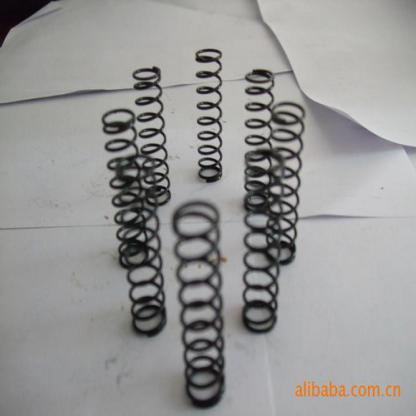FOD: (171, 196, 226, 410), (116, 150, 171, 342), (240, 140, 283, 336), (101, 105, 152, 269), (264, 97, 306, 268), (129, 62, 173, 208), (241, 62, 274, 218), (194, 45, 226, 187)
